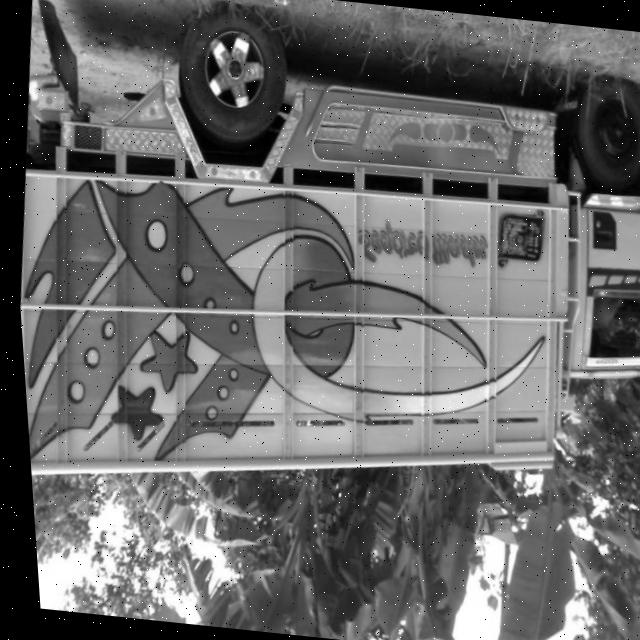truck: (521, 117, 640, 425)
